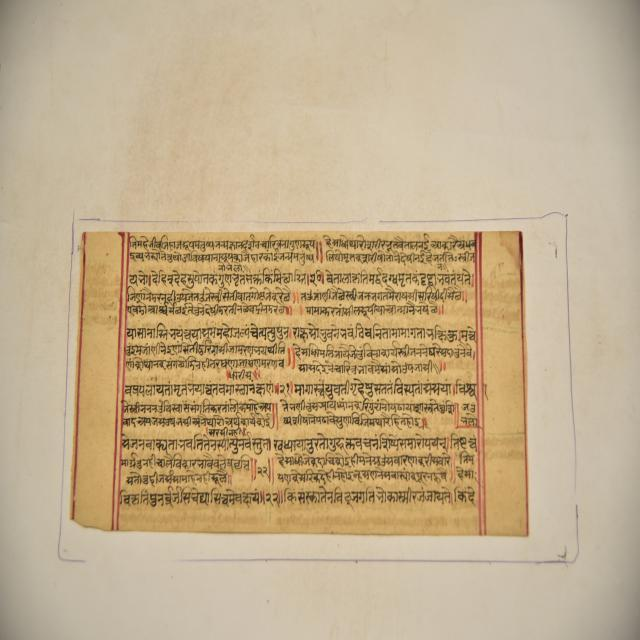text_paragraph: (72, 229, 527, 537)
